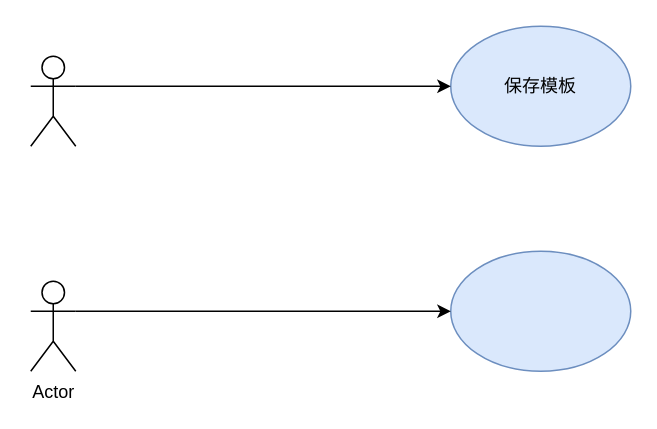
Some shapes in this 657 by 429 pixel diagram are drawn without their labels. The shapes that lost their labels are listed below. From the top down, each one's centre as x and y in pixels, then its label:
At point 52,100: "采购人".
At point 540,310: "保存模板数据".
